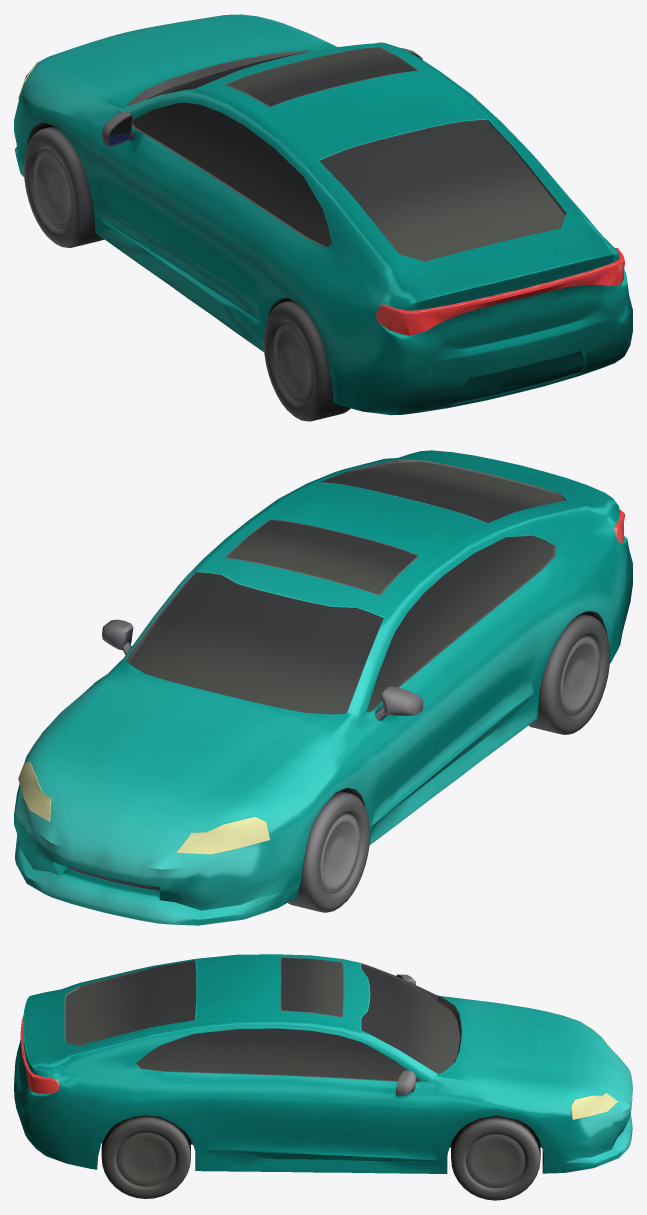
File: day_LIGHT_THEME_CAR_MODEL.glb
3 renders of one model, top to bottom at view 1: azimuth 30°, elevation 25°; view 2: azimuth 150°, elevation 25°; view 3: azimuth 270°, elevation 25°, orthographic. The views are drawn at different scales.
Parts seen in each view (by area): view 1: Symmetry.1; view 2: Symmetry.1; view 3: Symmetry.1.
Part boxes in pixels (x1,y1,x2,y2): Symmetry.1: [14, 14, 632, 421]; Symmetry.1: [14, 450, 632, 925]; Symmetry.1: [14, 954, 632, 1200].
Bounding box in the file's own units: 5.12 × 3.61 × 11.93.
1 material, 1 textured.
